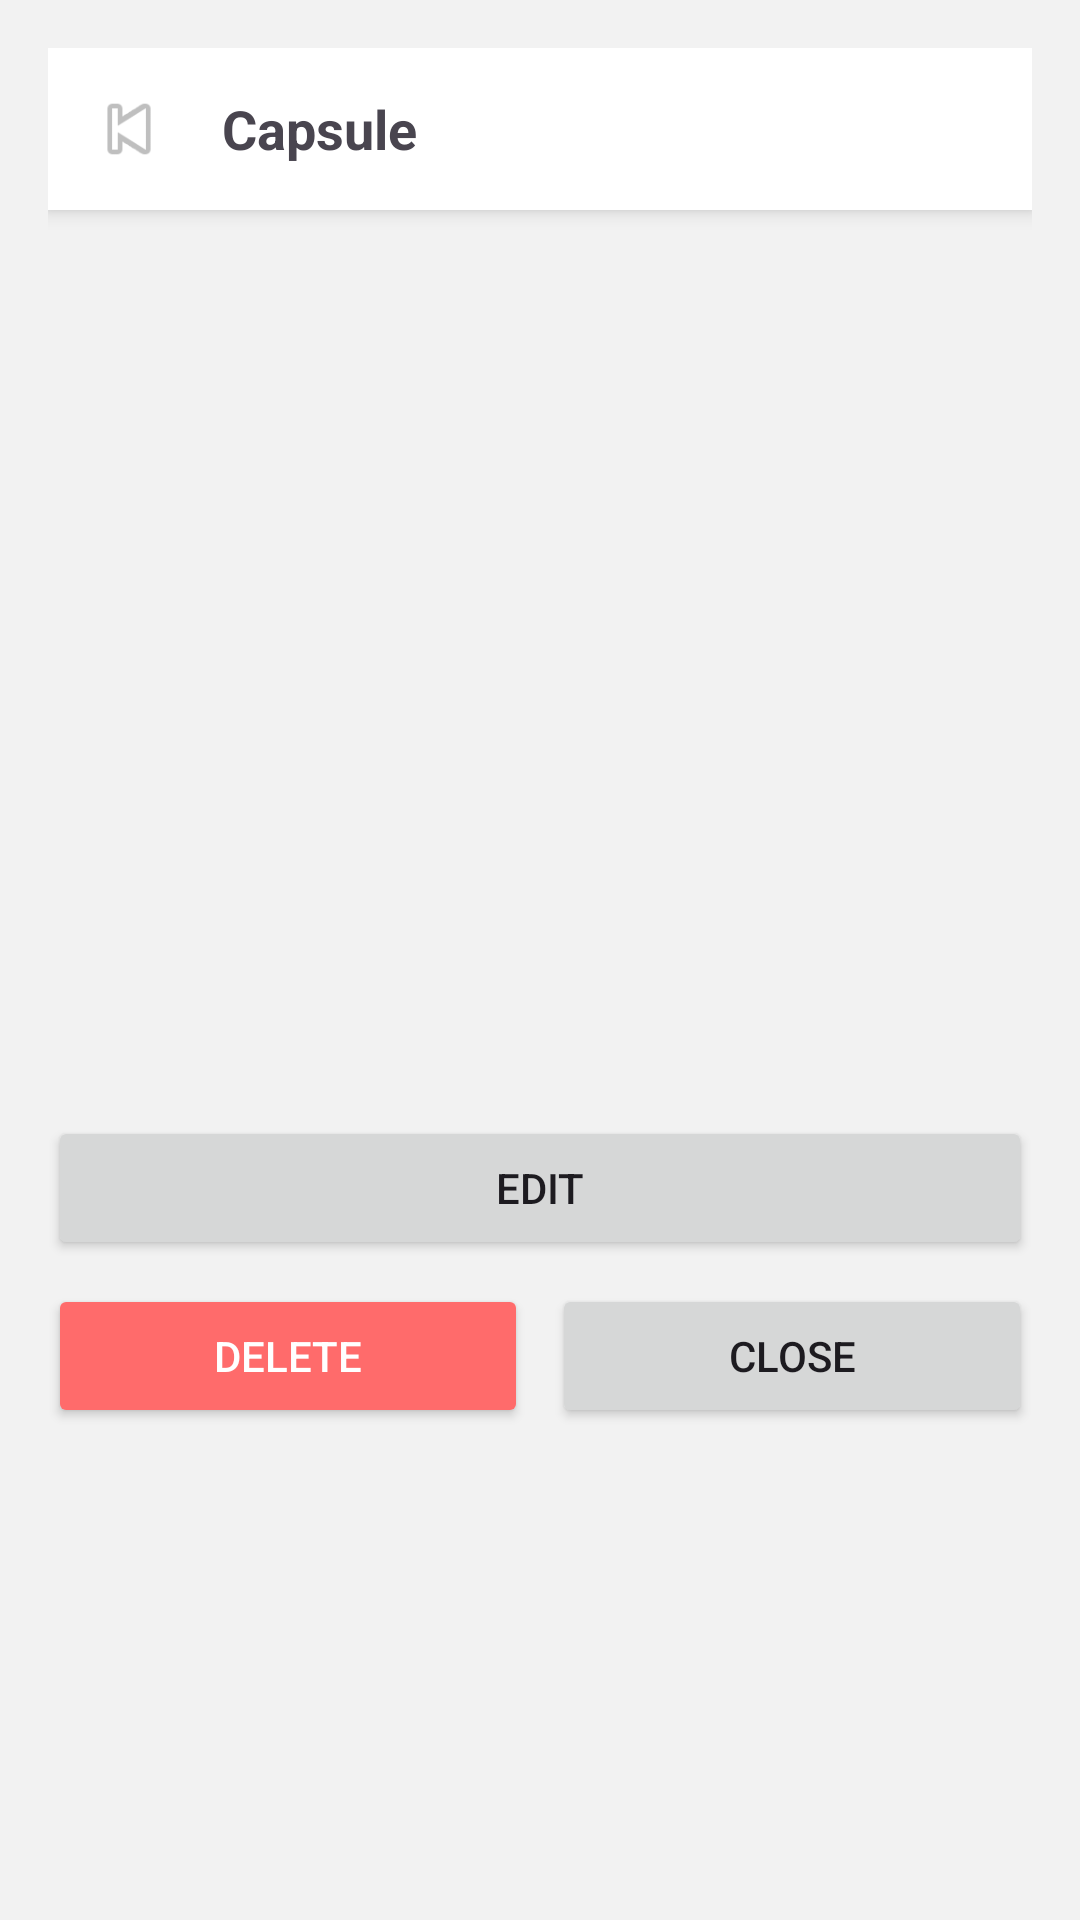

Icons on this 1080 × 1920 Android screen, each with the point to tap as [x,y]:
previous: [129,129]
